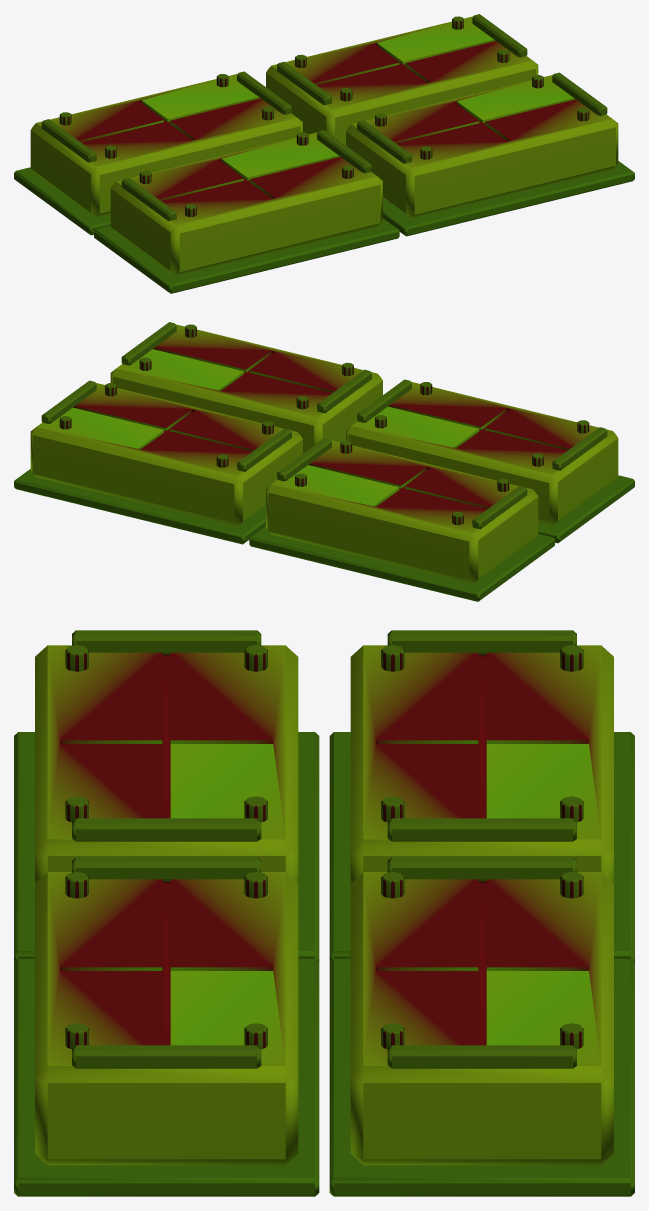
The model's file is RCLModule_scout_tank_desert_camo_era.fbx.
3 views of the same model, one above another, from view 1: azimuth 30°, elevation 25°; view 2: azimuth 150°, elevation 25°; view 3: azimuth 270°, elevation 25° (orthographic). The views are drawn at different scales.
Visible parts, largest first — view 1: RCLModule_scout_tank_desert_camo_era_Batch_RCLModuleMaterial (×2); view 2: RCLModule_scout_tank_desert_camo_era_Batch_RCLModuleMaterial (×2); view 3: RCLModule_scout_tank_desert_camo_era_Batch_RCLModuleMaterial (×2).
Part boxes in pixels (<box>): RCLModule_scout_tank_desert_camo_era_Batch_RCLModuleMaterial (×2): <box>14,14,634,293</box>; RCLModule_scout_tank_desert_camo_era_Batch_RCLModuleMaterial (×2): <box>14,322,634,601</box>; RCLModule_scout_tank_desert_camo_era_Batch_RCLModuleMaterial (×2): <box>14,630,634,1196</box>.
Bounding box in the file's own units: 50.5 × 7.1 × 29.5.
